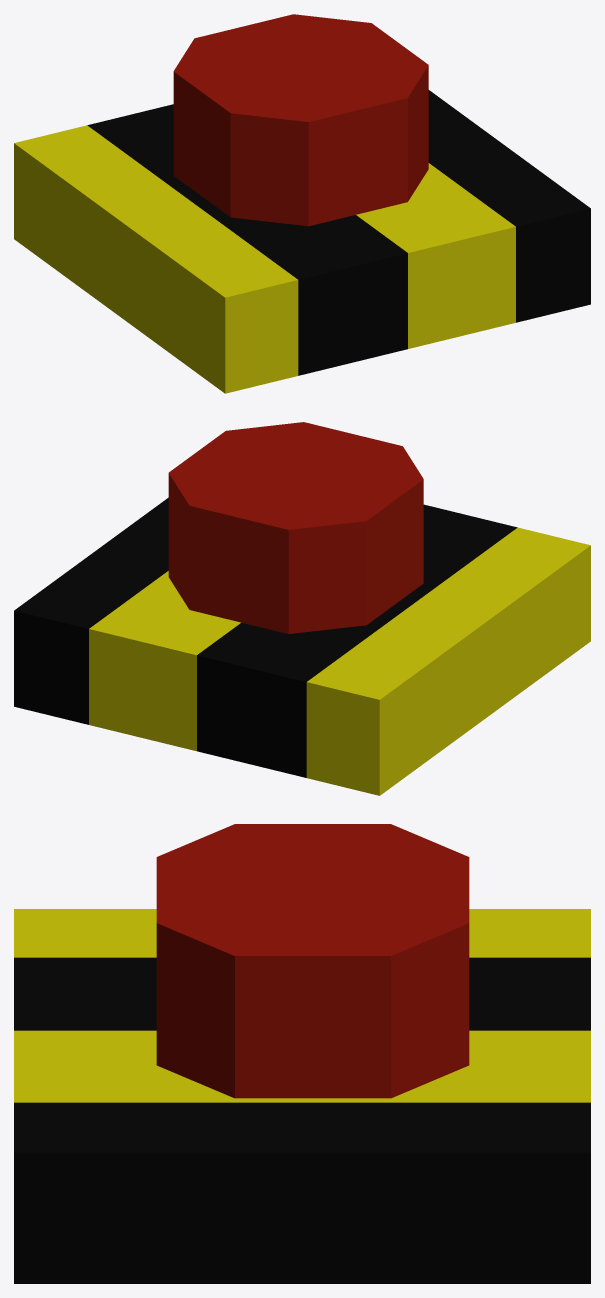
The model's file is Button_Press.fbx.
3 renders of one model, top to bottom at view 1: azimuth 30°, elevation 25°; view 2: azimuth 150°, elevation 25°; view 3: azimuth 270°, elevation 25°, orthographic. The views are drawn at different scales.
Visible parts, largest first — view 1: New_button; view 2: New_button; view 3: New_button.
Boxes of the visible parts, x1=… form: New_button: x1=14, y1=14, x2=590, y2=393; New_button: x1=14, y1=422, x2=590, y2=795; New_button: x1=14, y1=824, x2=590, y2=1283.
Size of the model in its own units: 1.74 by 0.9083 by 1.74.
